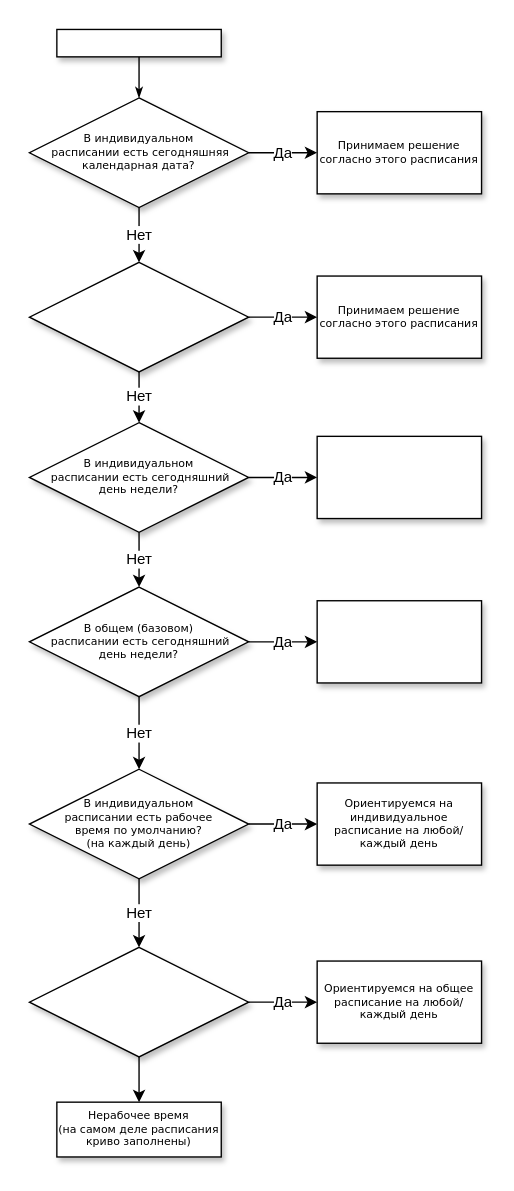
This 514x1191 diagram has some shape labels left out. The shapes that lost their labels are listed below. From the top down, each one's centre as x and y in pixels, then its label:
At point 139,44: "Сейчас рабочее время?".
At point 140,319: "В общем (базовом) расписании есть сегодняшняя календарная дата?".
At point 400,478: "Принимаем решение согласно индивидуального расписания на этот день недели".
At point 400,643: "Принимаем решение согласно общего расписания на этот день недели".
At point 140,1004: "В общем (базовом) расписании есть рабочее время по умолчанию? (на каждый день)".
